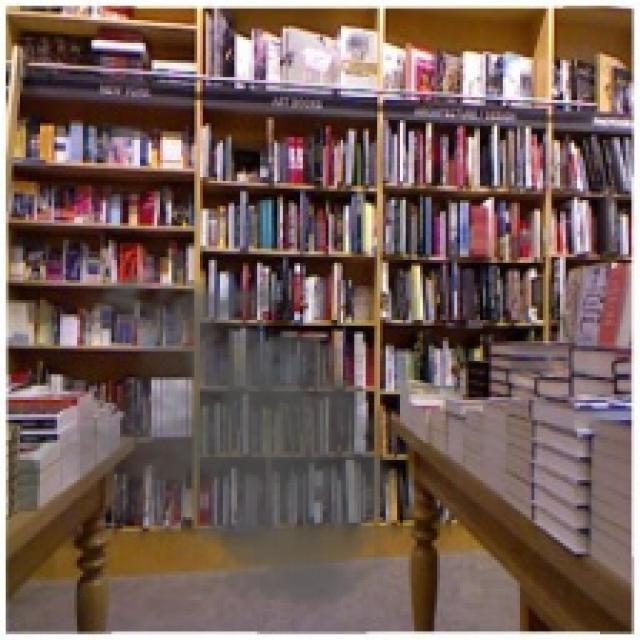Smoke: (60, 260, 423, 614)
